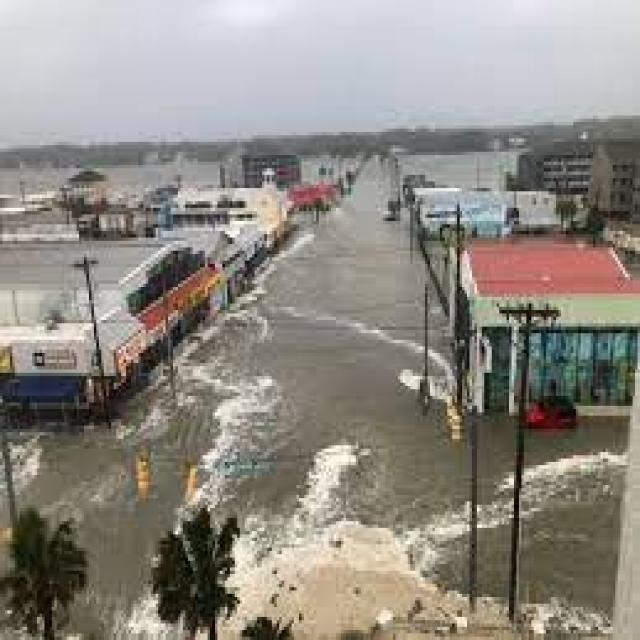Hurricane: (128, 119, 619, 640)
